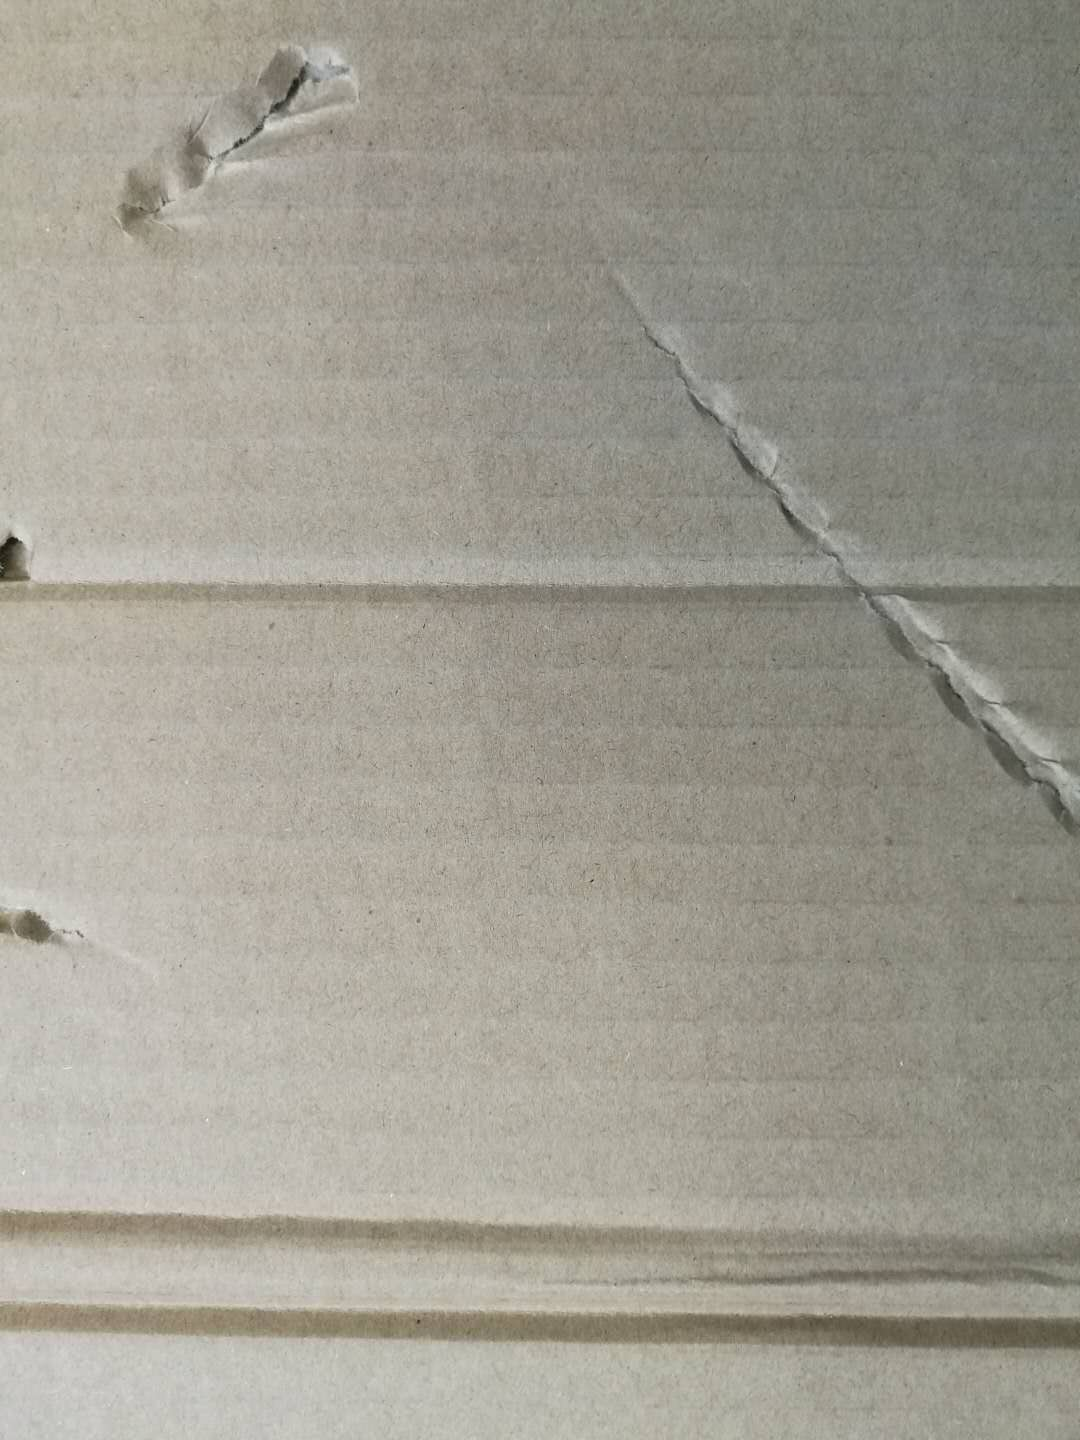defect: (579, 239, 1080, 858), (1, 1174, 1080, 1381), (1, 492, 1080, 652), (85, 28, 383, 259), (2, 862, 143, 998)
